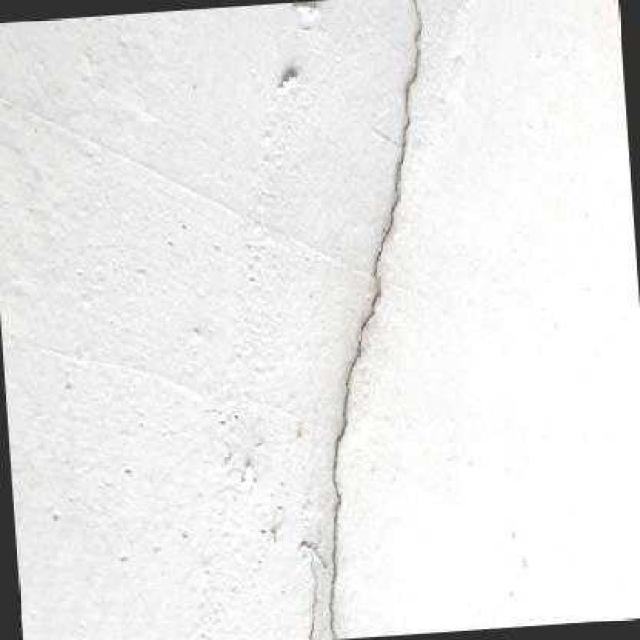D00: (328, 0, 421, 640), (307, 519, 319, 640)
